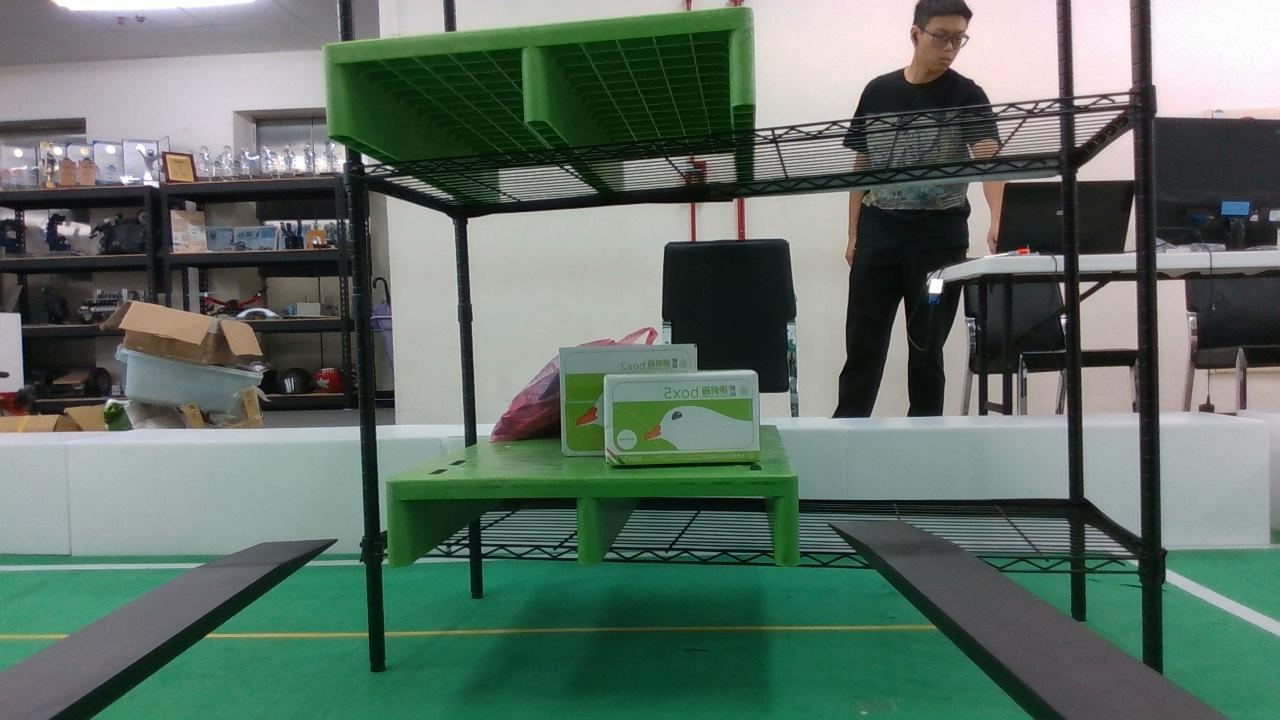Pallet: (318, 13, 762, 138), (388, 479, 803, 576)
